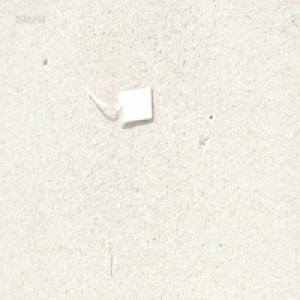LuggageTag: (83, 71, 155, 128)
